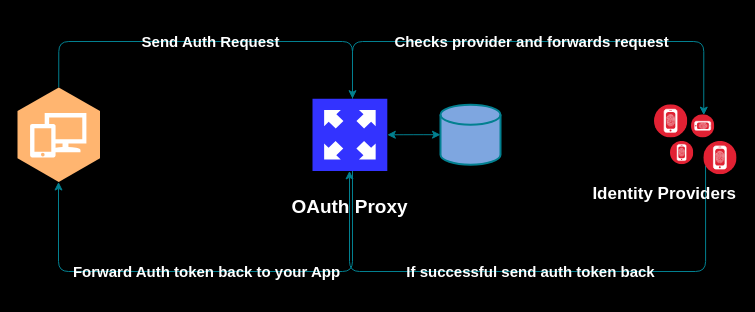
Image size: 755x312. Some labels were removed from this diagram. The centre of each missing label's shape, as x and y in pixels:
"Session Data" goes at point (470, 134).
"Your App" goes at point (58, 134).
